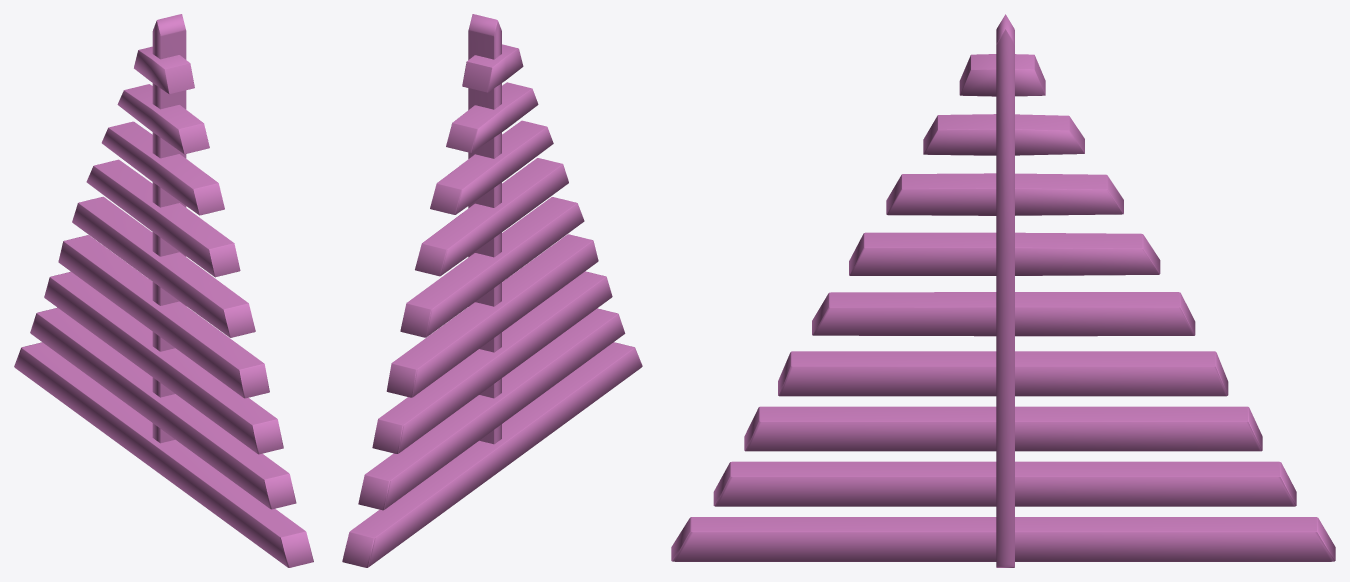
File: RoofSide1on1 1.fbx
3 renders of one model, left to right at view 1: azimuth 30°, elevation 25°; view 2: azimuth 150°, elevation 25°; view 3: azimuth 270°, elevation 25°, orthographic. The views are drawn at different scales.
Visible parts, largest first — view 1: RoofSide002; view 2: RoofSide002; view 3: RoofSide002.
Part boxes in pixels (<box>): RoofSide002: <box>14,14,313,567</box>; RoofSide002: <box>342,14,642,567</box>; RoofSide002: <box>671,14,1335,567</box>.
Bounding box in the file's own units: 2.73 × 36.06 × 40.18.
